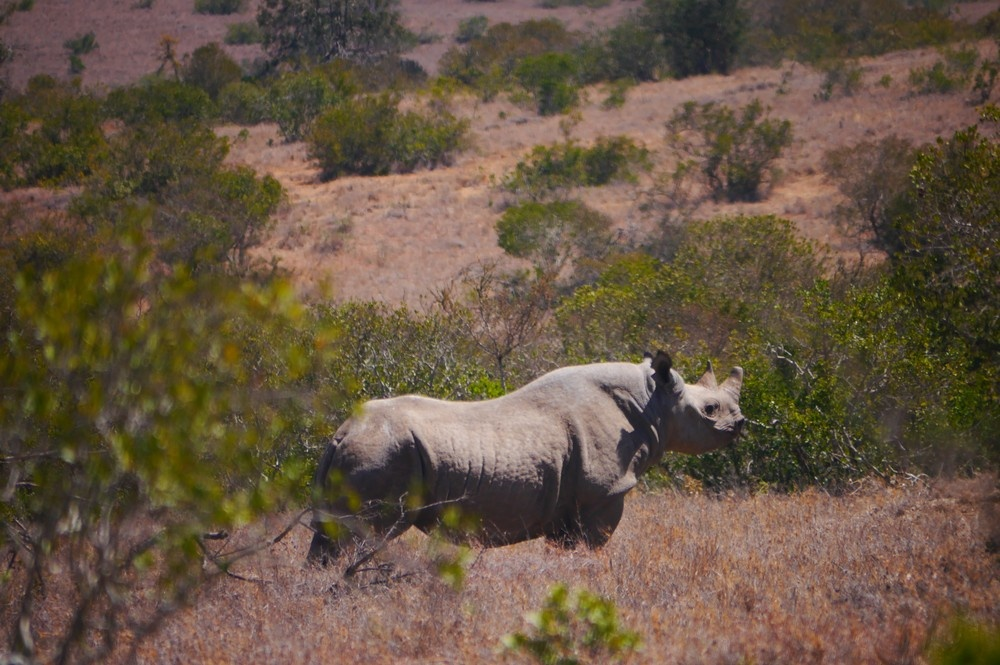rhino: (298, 351, 748, 574)
